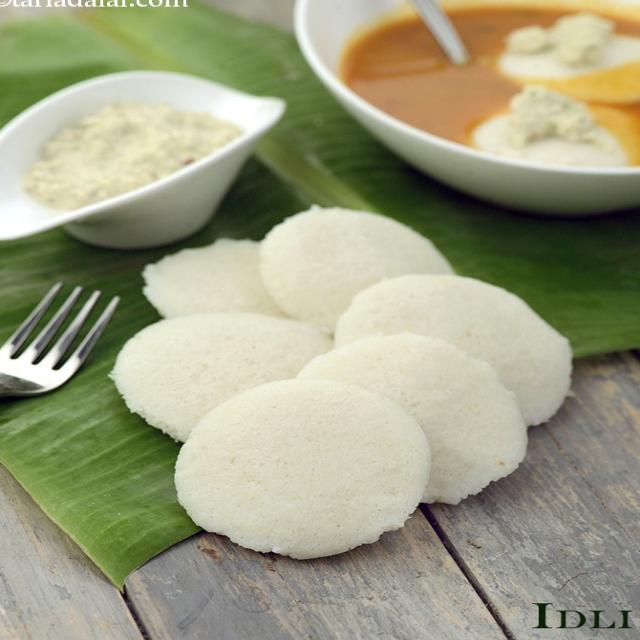chutney: (16, 78, 232, 210)
idli: (150, 247, 514, 561)
